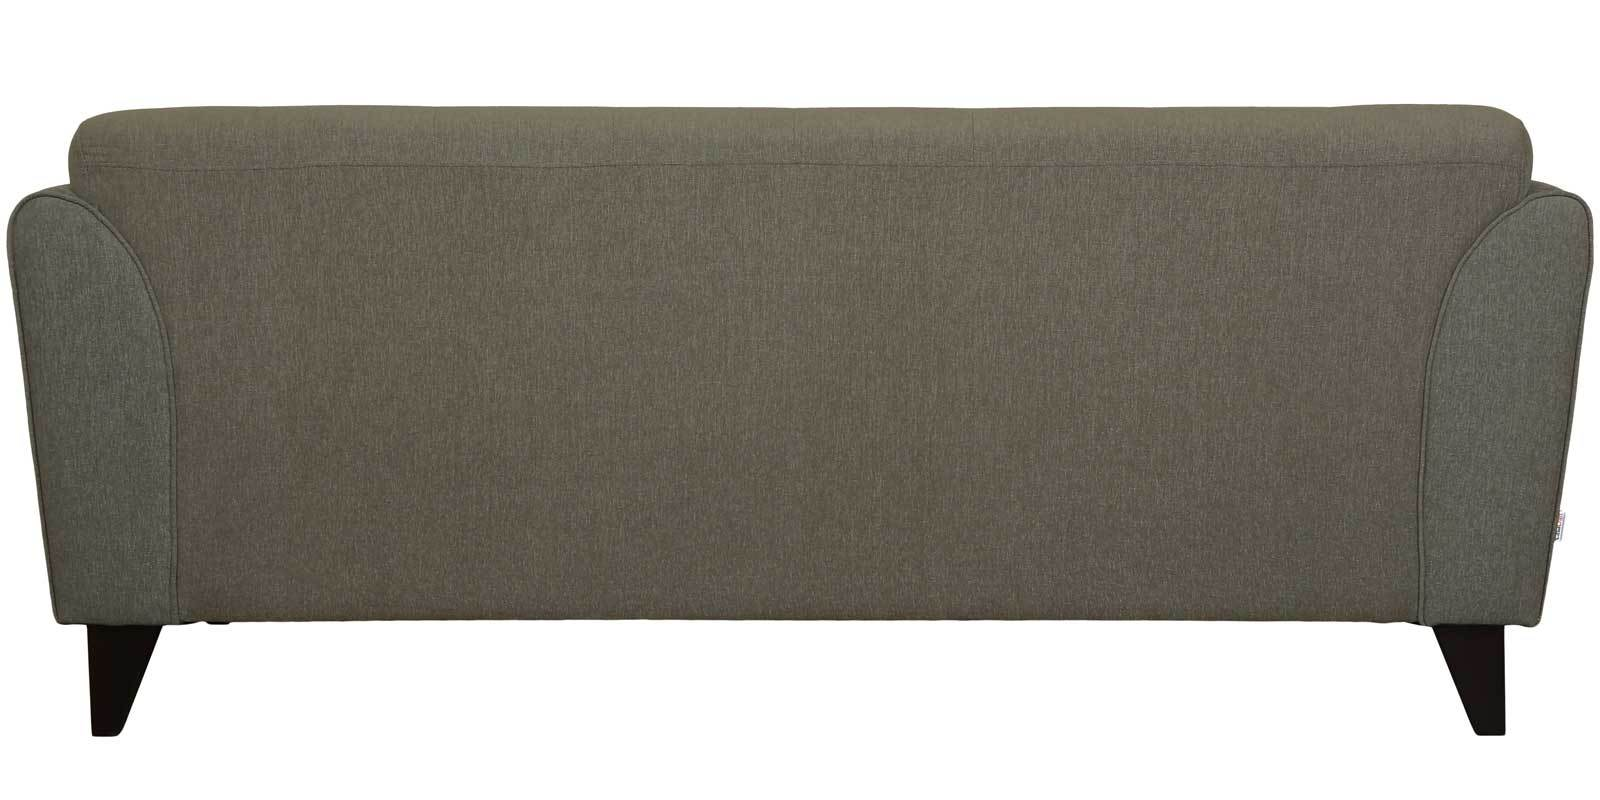Belem Three Seater Sofa in Ice Blue Color by CasaCraft: (6, 69, 1597, 688)
